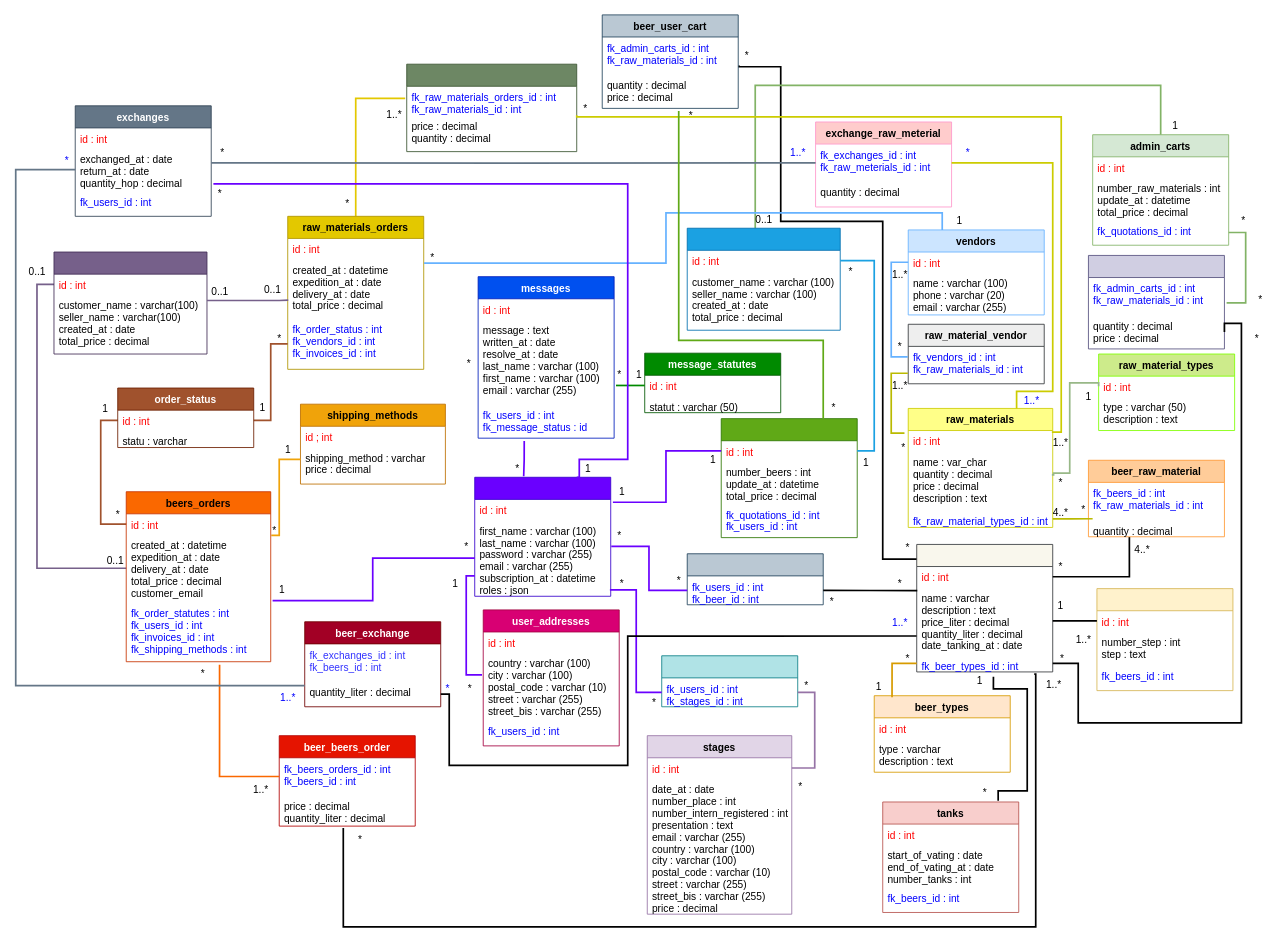
Some shapes in this 1283 by 944 pixel diagram are drawn without their labels. Each missing label, with the box of its shape:
admin_cart_raw_material: (1088, 255, 1224, 349)
beer_user: (686, 553, 823, 605)
beers: (916, 544, 1053, 672)
invoices: (53, 251, 207, 354)
quotations: (686, 227, 840, 330)
raw_material_raw_materials_order: (406, 63, 577, 152)
recipe_steps: (1096, 588, 1233, 691)
stage_user: (661, 655, 798, 707)
user_carts: (720, 418, 857, 538)
users: (474, 476, 611, 596)
